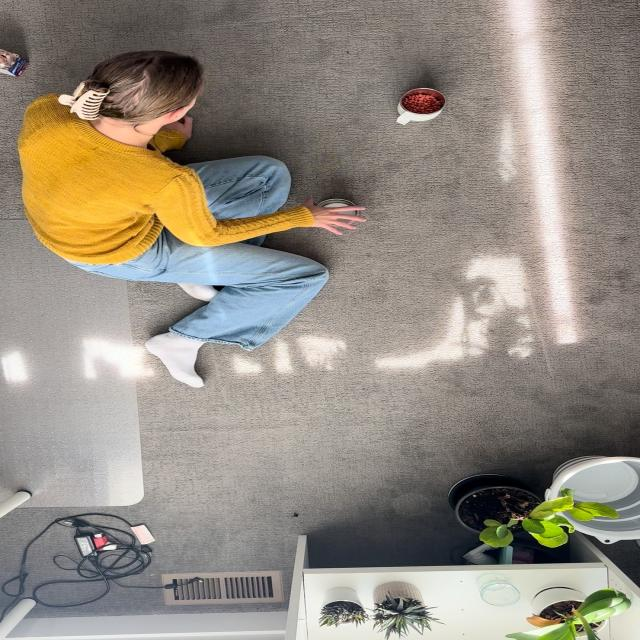IBC: (396, 87, 445, 125), (318, 198, 354, 208)
